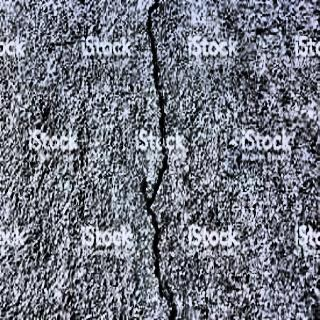crack: (136, 0, 180, 320)
